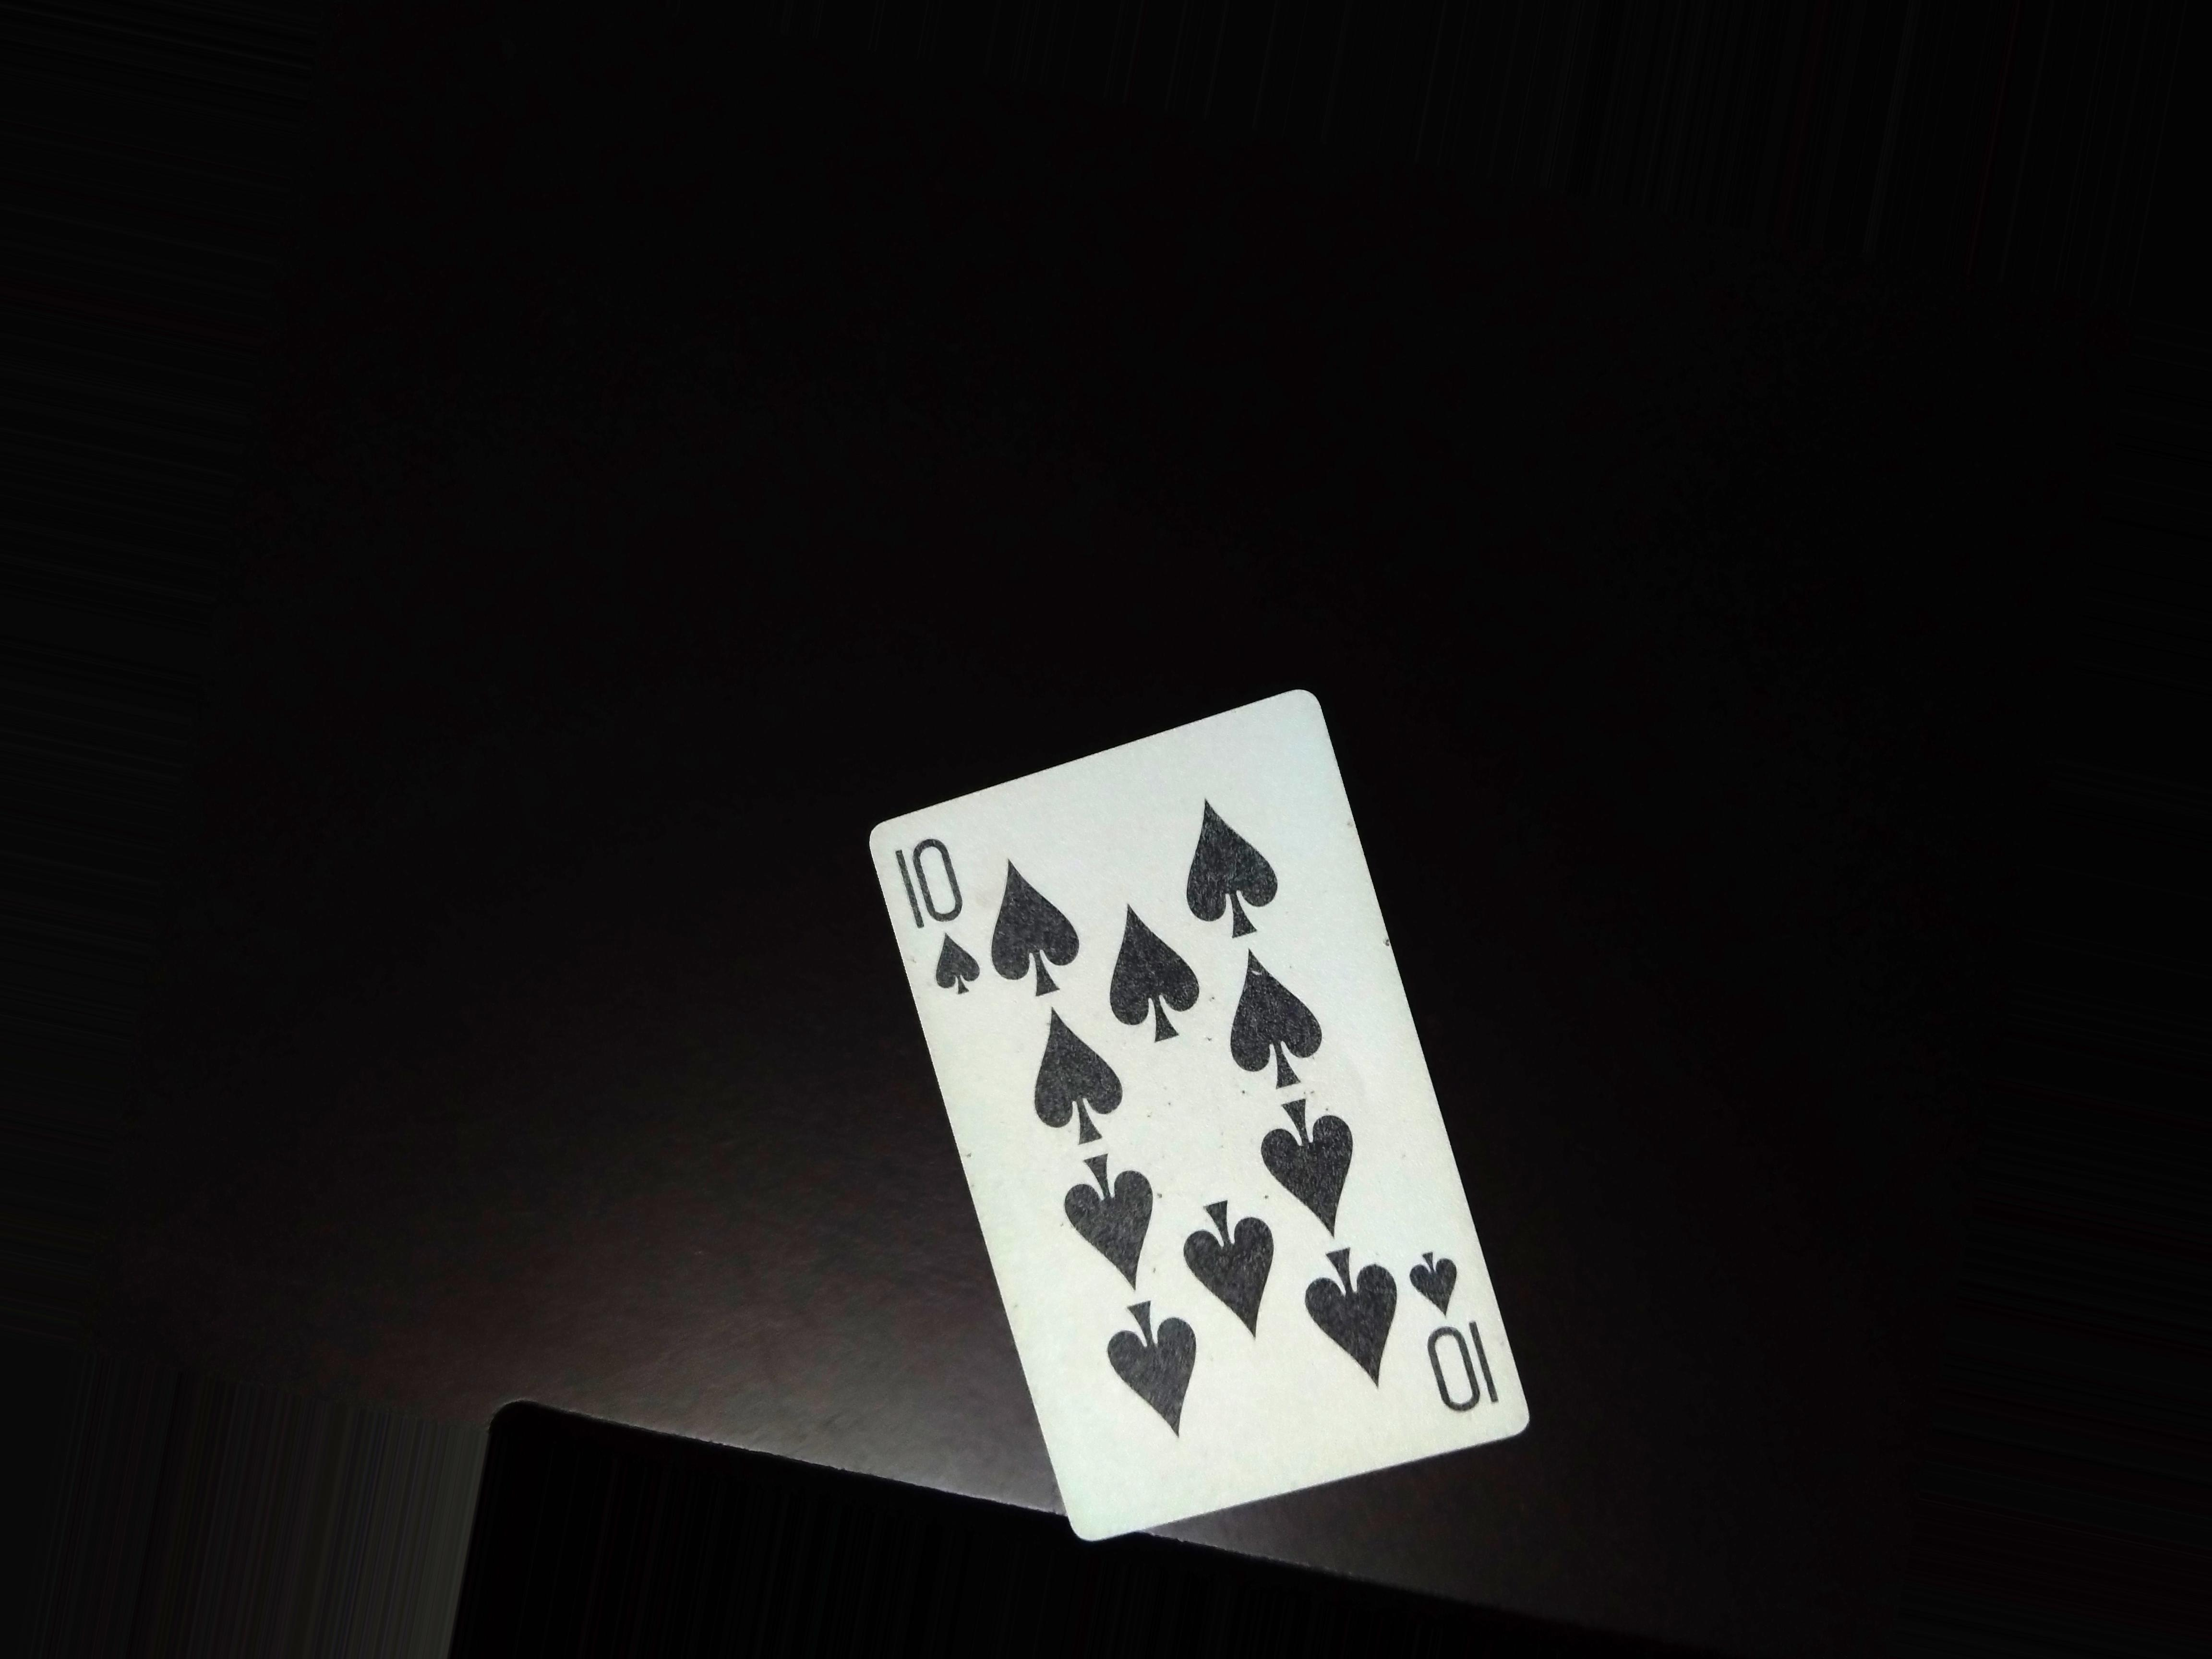10S: (888, 826, 991, 1014)
